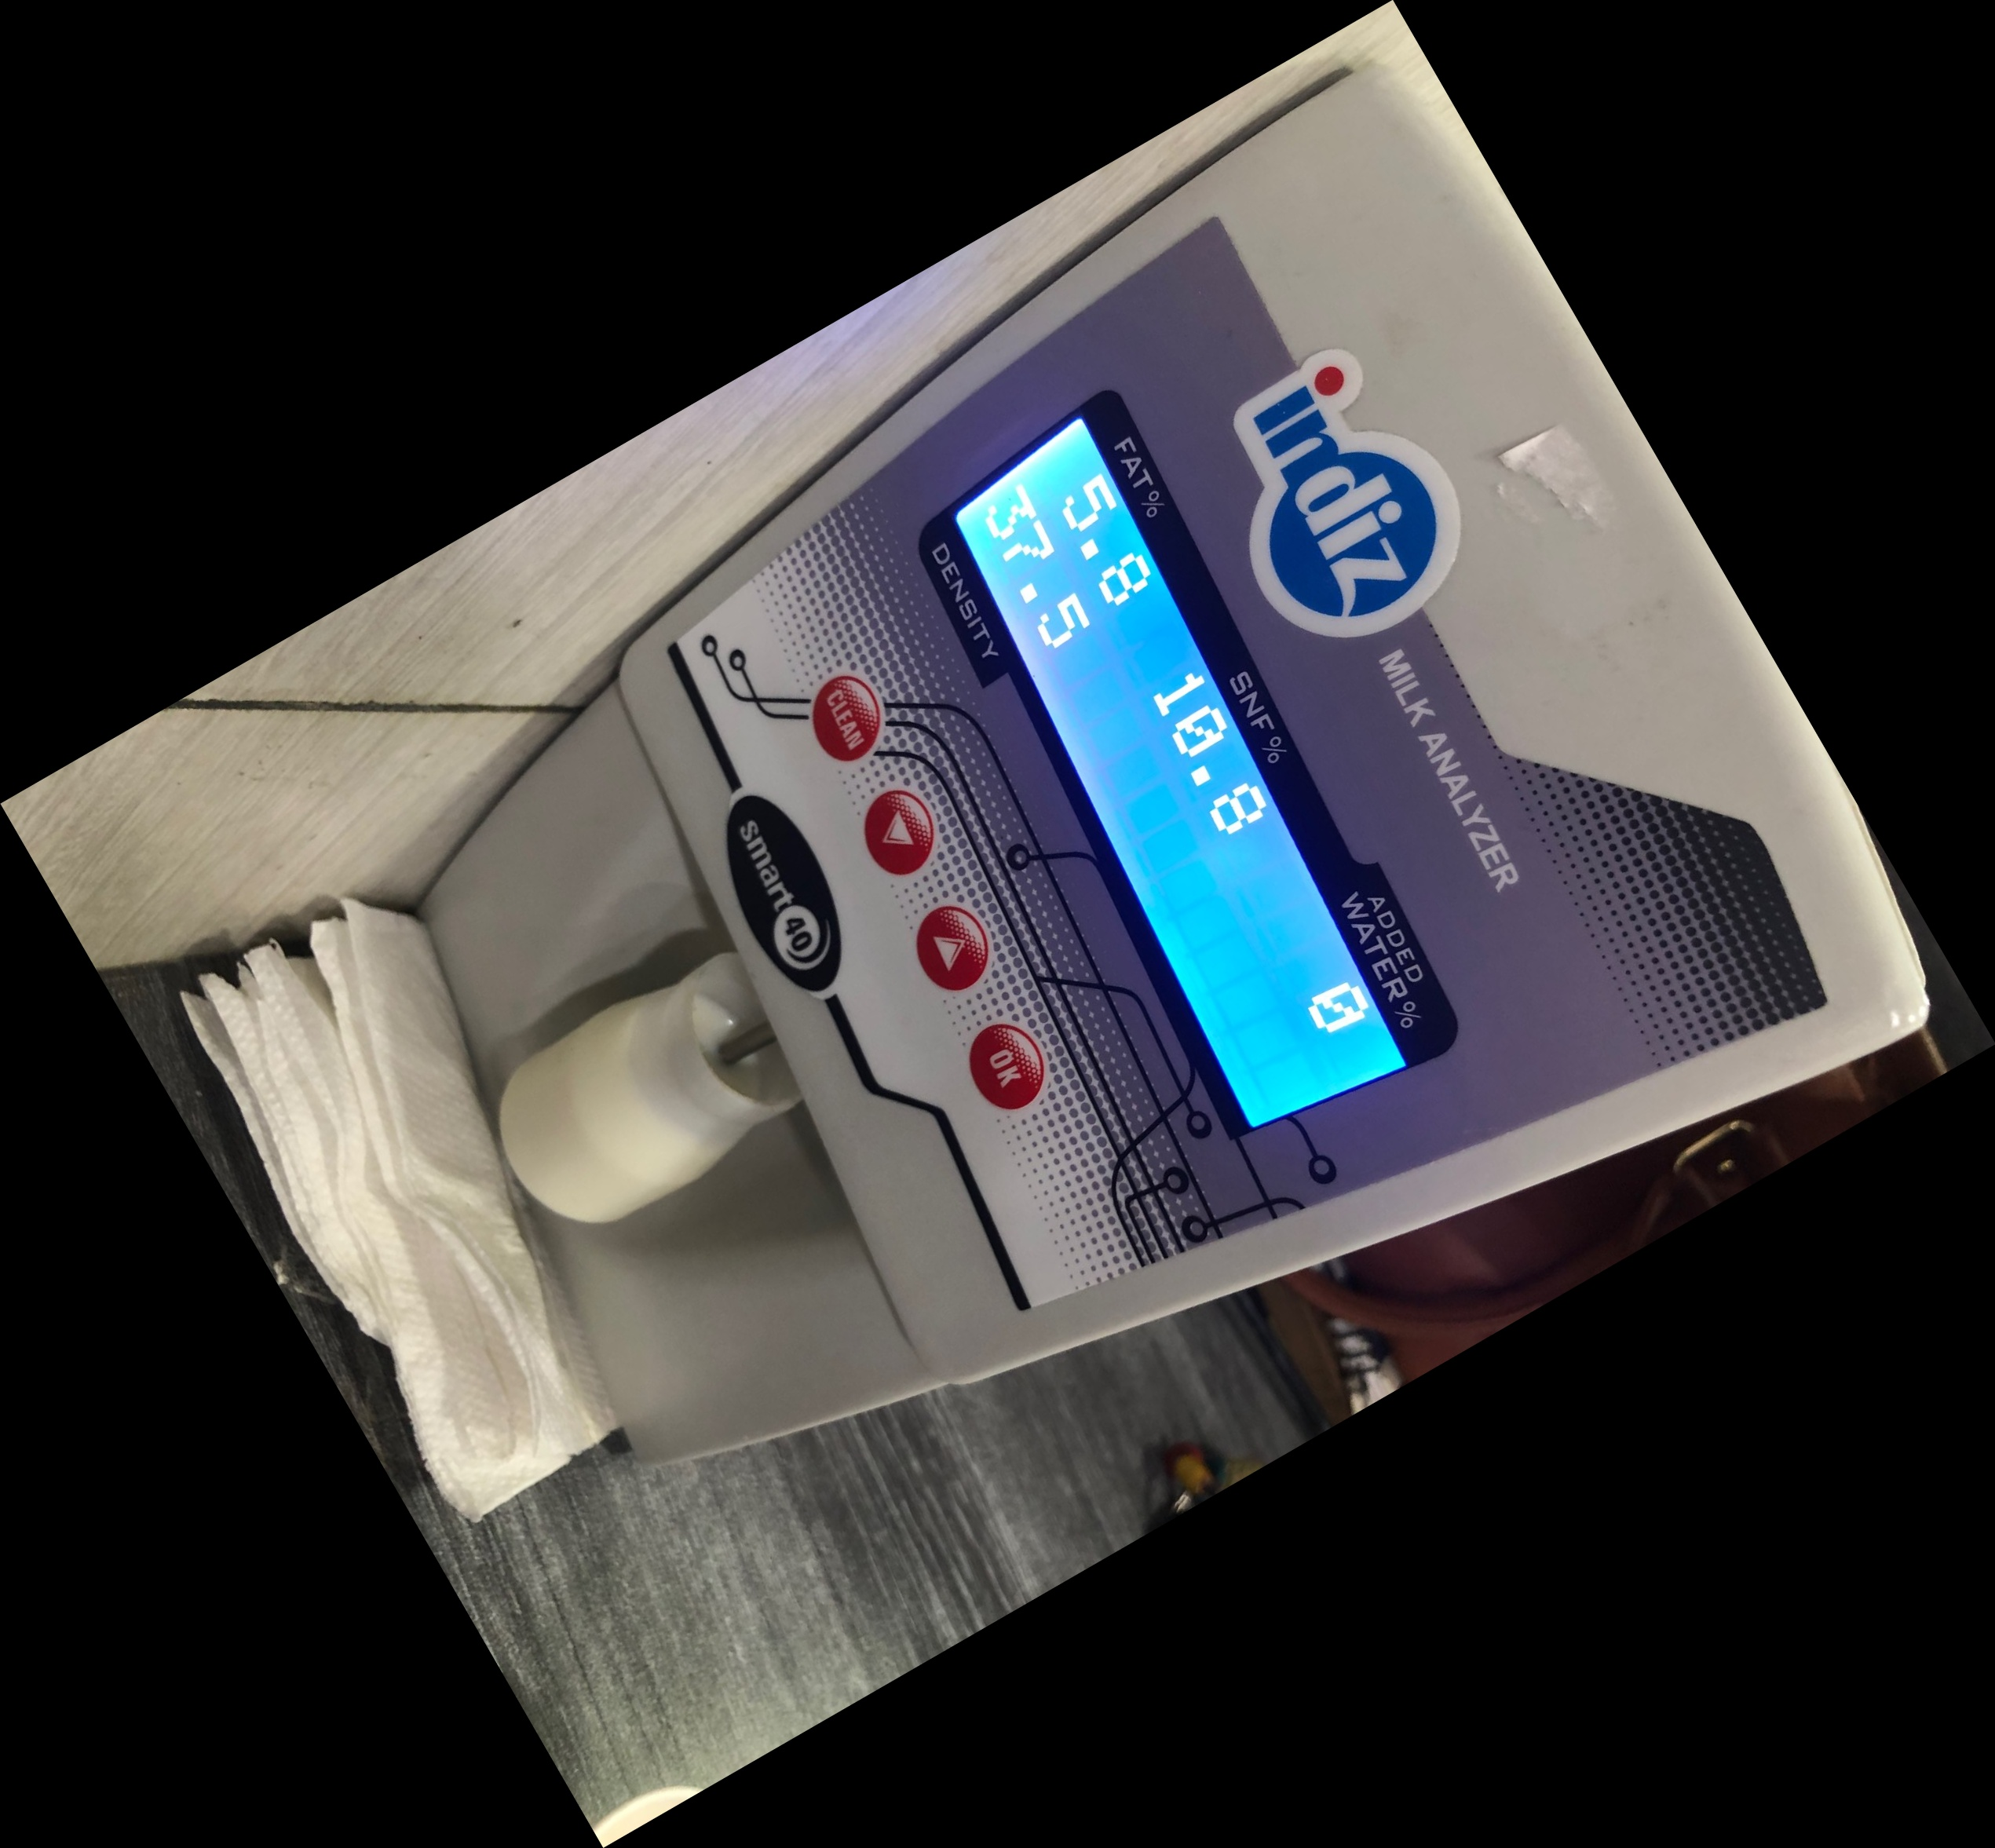lcd: (926, 393, 1479, 1157)
